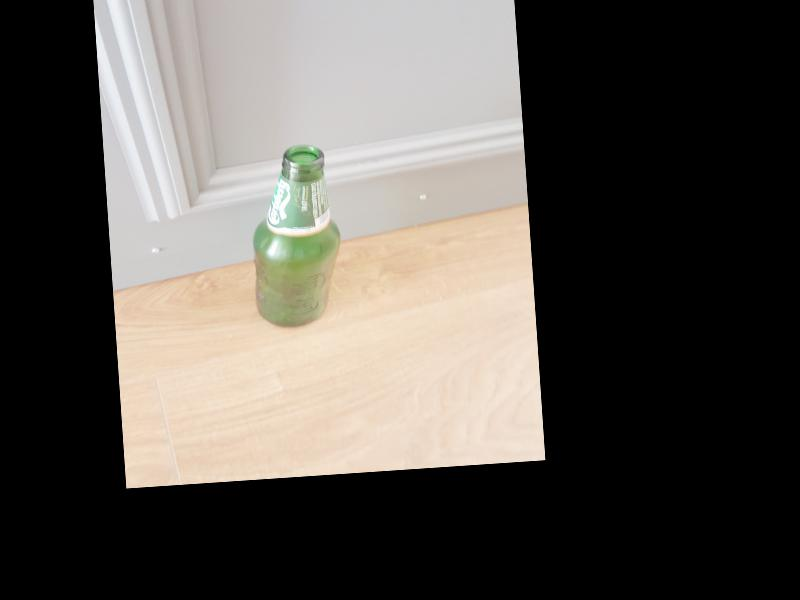Beer: (245, 143, 346, 330)
